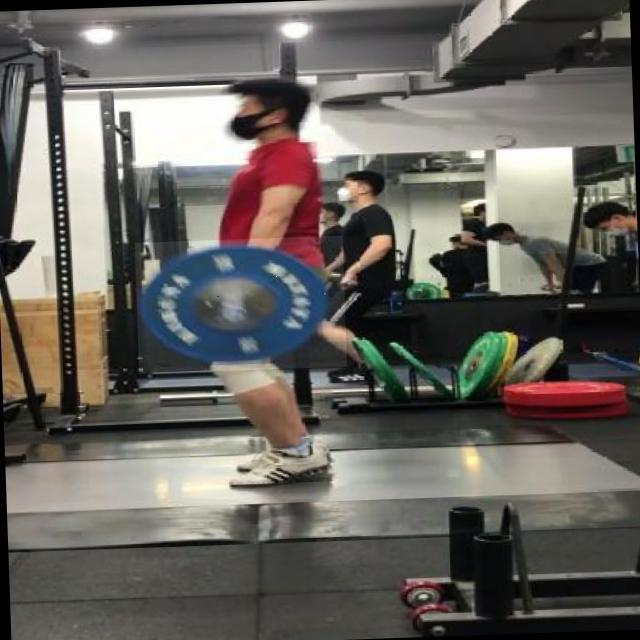barbell: (136, 237, 348, 375)
